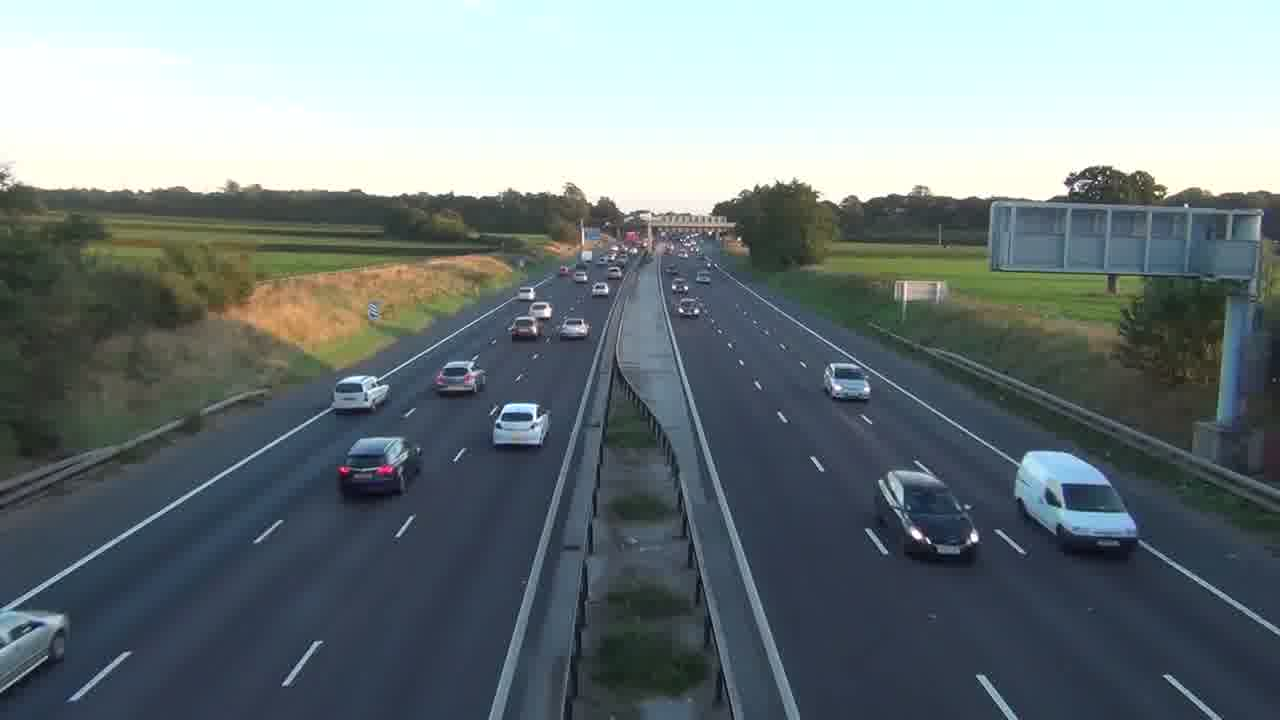car: (1012, 449, 1139, 556), (875, 466, 981, 562), (0, 604, 70, 694), (336, 435, 422, 496), (492, 400, 551, 449), (332, 374, 391, 414), (823, 362, 872, 402), (431, 360, 481, 396), (556, 317, 591, 341), (509, 315, 540, 341)
